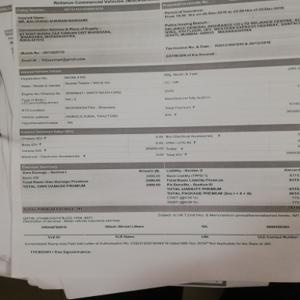table: (16, 59, 300, 124), (19, 163, 300, 207), (19, 124, 300, 160)
